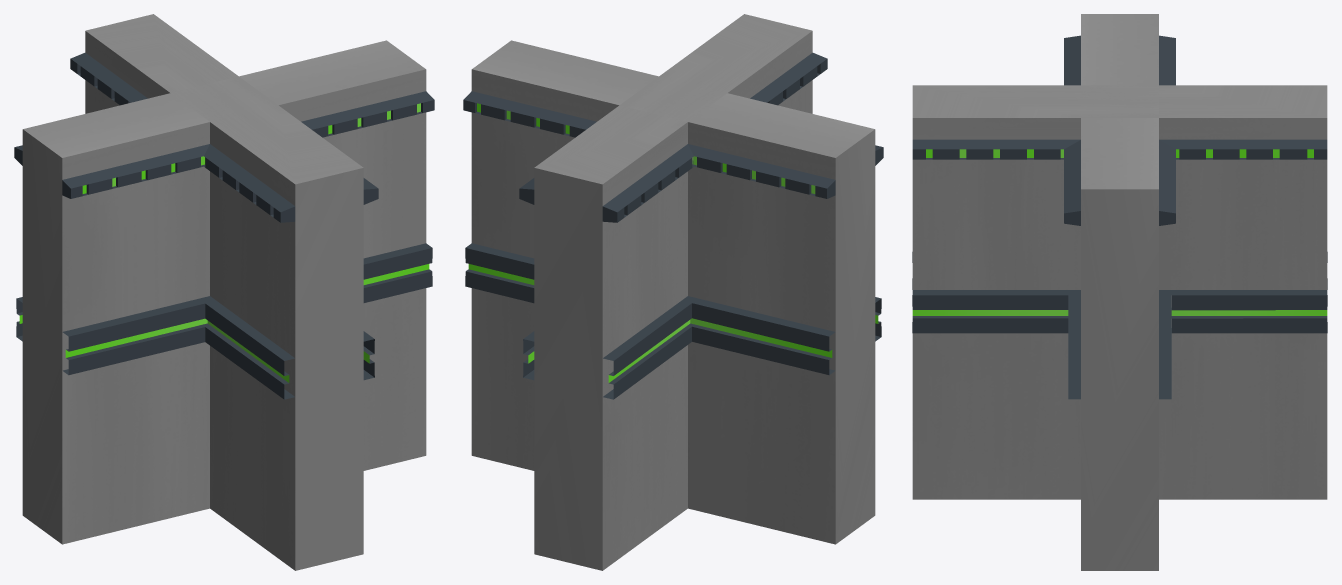
The model's file is multi wall 1.fbx.
3 views of the same model, side by side, from view 1: azimuth 30°, elevation 25°; view 2: azimuth 150°, elevation 25°; view 3: azimuth 270°, elevation 25° (orthographic).
Visible parts, largest first — view 1: polySurface50; view 2: polySurface50; view 3: polySurface50.
Boxes of the visible parts, box(x1,y1,x2,y2) form: polySurface50: box(14, 14, 434, 570); polySurface50: box(463, 14, 883, 570); polySurface50: box(912, 14, 1327, 570).
Size of the model in its own units: 2.73 by 2.77 by 2.73.
